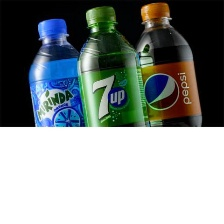bottle: (131, 0, 207, 133), (75, 2, 152, 130), (25, 16, 87, 129)
